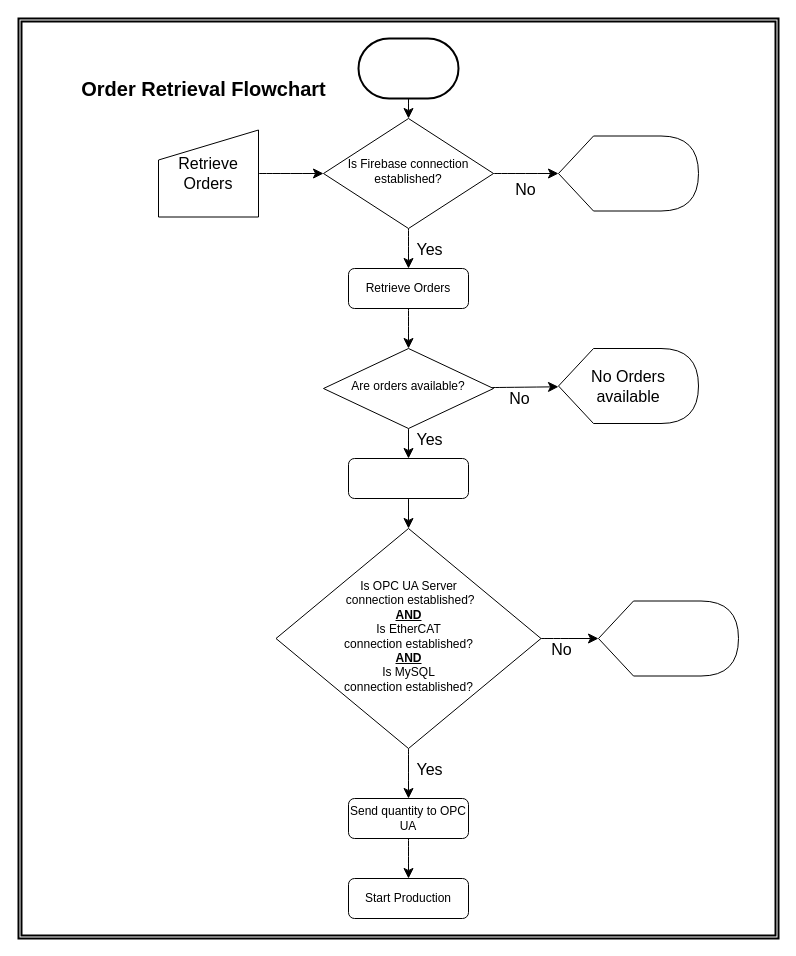
Some shapes in this 796 by 956 pixel diagram are drawn without their labels. The shapes that lost their labels are listed below. From the top down, each one's centre as x and y in pixels, then its label:
At pixel 408 68: "Start".
At pixel 628 173: "No Firebase connection established".
At pixel 408 478: "Get prioritized order".
At pixel 668 638: "No Connections Established".
